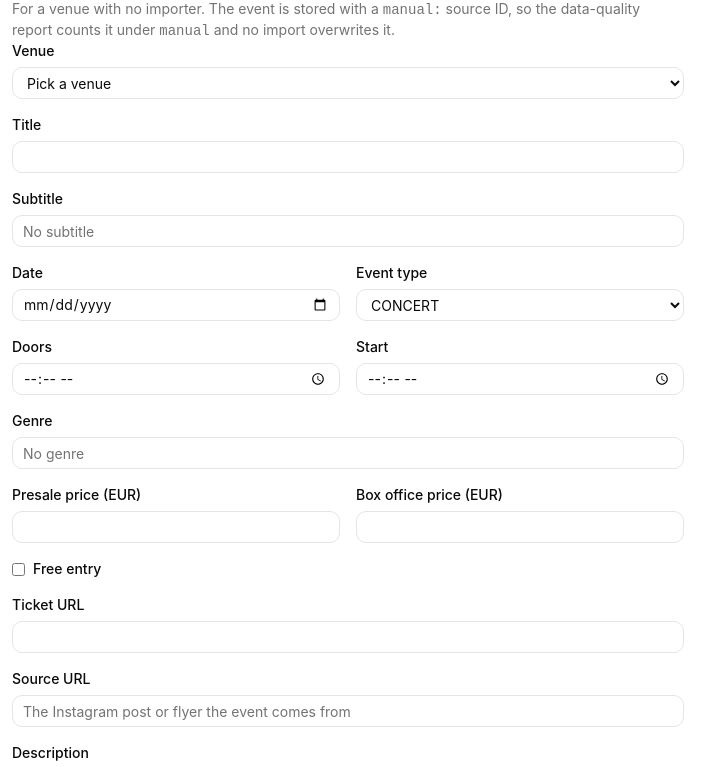
Test case: NewEventView › the check for events at the venue on the date › lists the events on the date and saves only after "Save anyway"
The width and height of the screenshot is (701, 767).
Select "Kulturhaus X" in the dropdown labelled "Venue" at {"x": 348, "y": 83}, box [12,67,684,99]
Type "Open Decks" into the field labelled "Title" at {"x": 348, "y": 157}, box [12,141,684,173]
Type "2026-11-14" into the date field labelled "Date" at {"x": 176, "y": 305}, box [12,289,340,321]
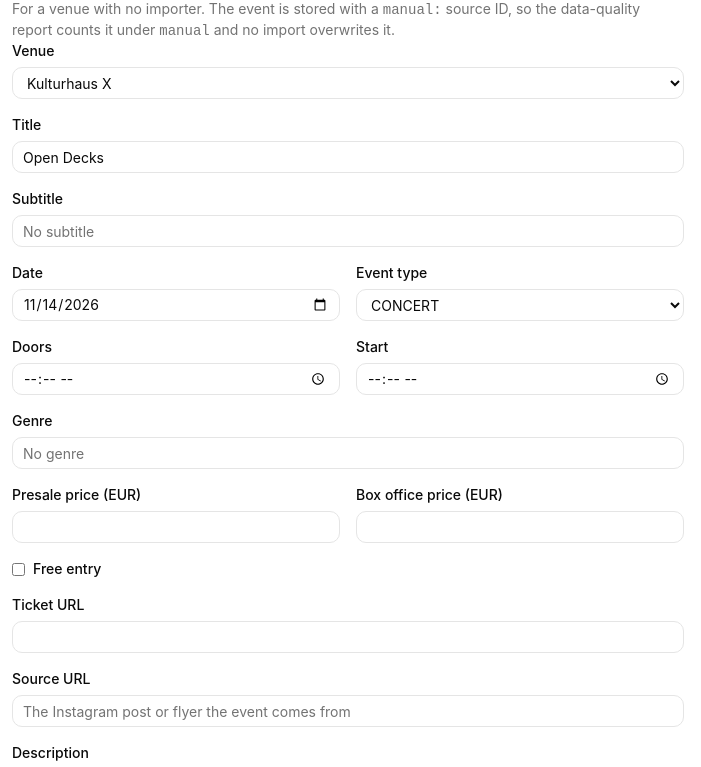
Type "21:00" into the time field labelled "Start" at {"x": 520, "y": 379}, box [356,363,684,395]
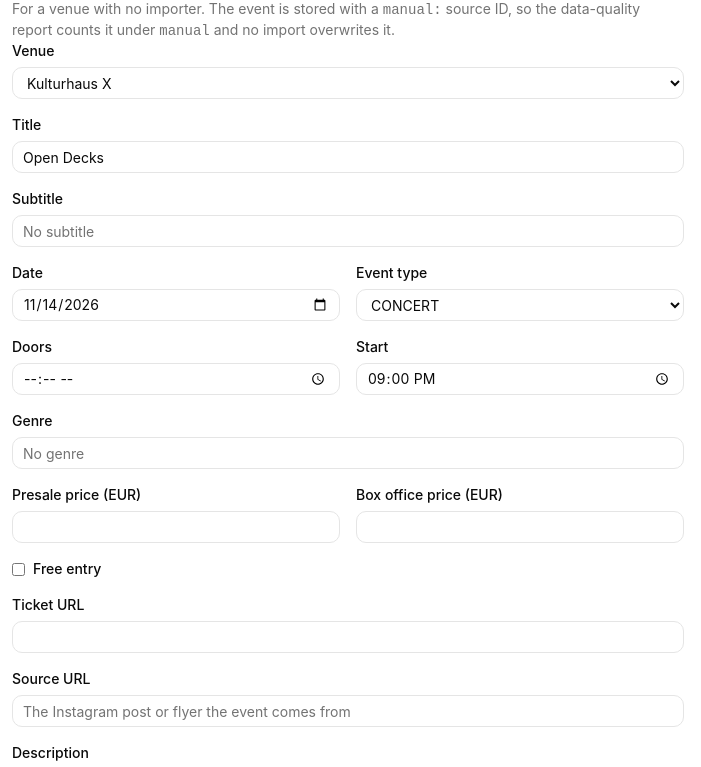
Type "House" into the field labelled "Genre" at {"x": 348, "y": 453}, box [12,437,684,469]
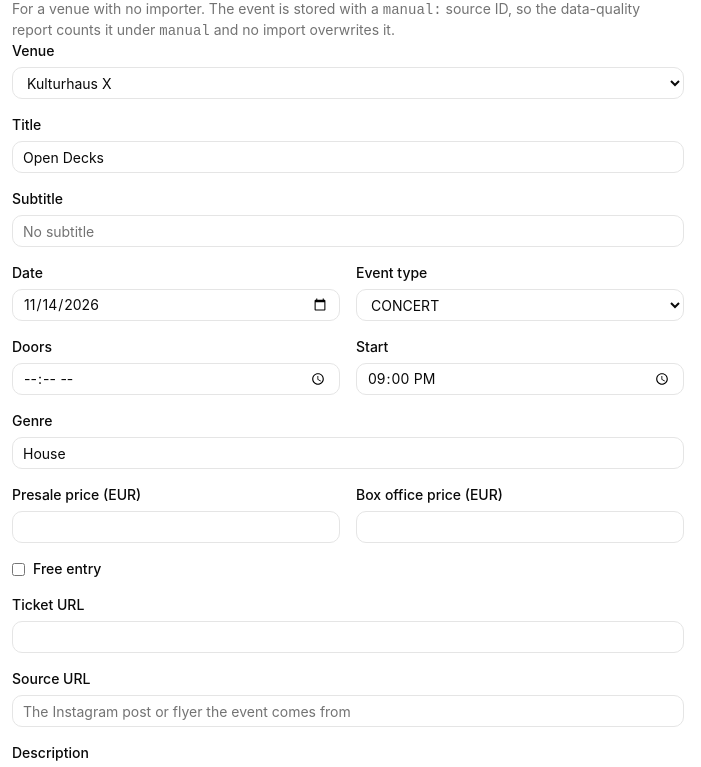
Type "5" into the field labelled "Presale price (EUR)" at {"x": 176, "y": 527}, box [12,511,340,543]
(page scrolled)
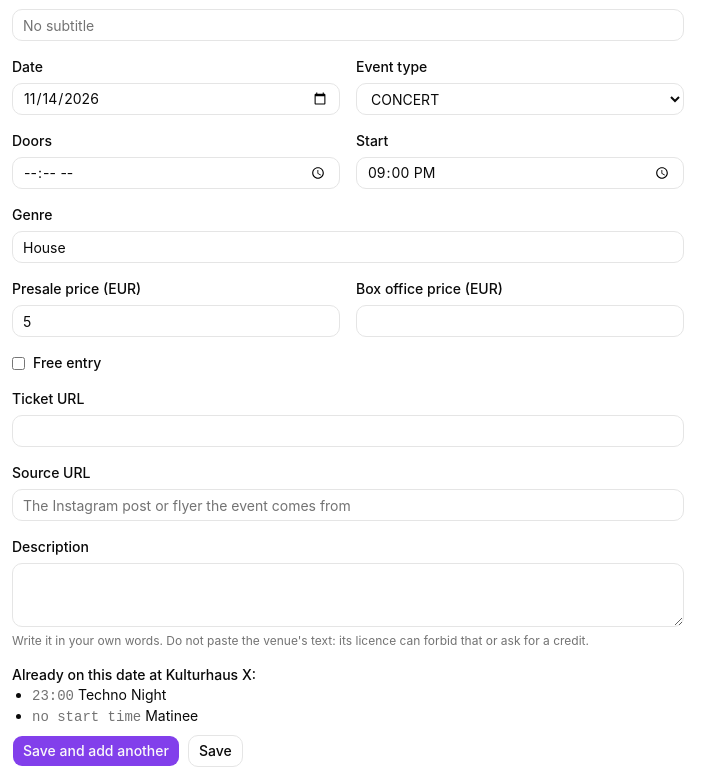
Result: the element with test id "same-day" shows "Already on this date at Kulturhaus X:" at [12,666,256,683]
Result: the element with test id "same-day" shows "23:00" at [32,688,74,704]
Result: the element with test id "same-day" shows "Techno Night" at [74,686,166,703]
Click the button "Save" at {"x": 215, "y": 751}, box [188,735,243,766]
(page scrolled)
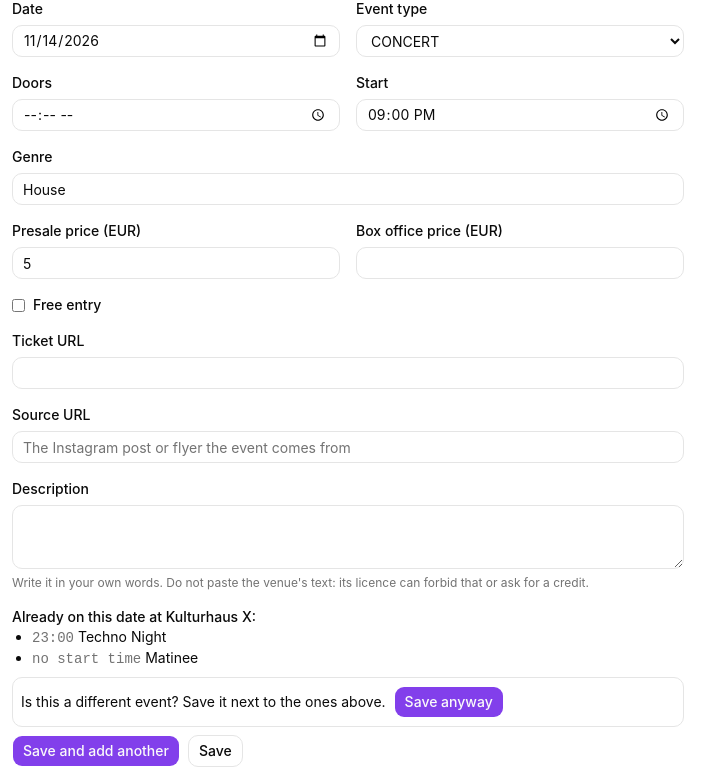
Click the button named "saveAnyway" at {"x": 449, "y": 702}, box [394,686,504,718]
(page scrolled)
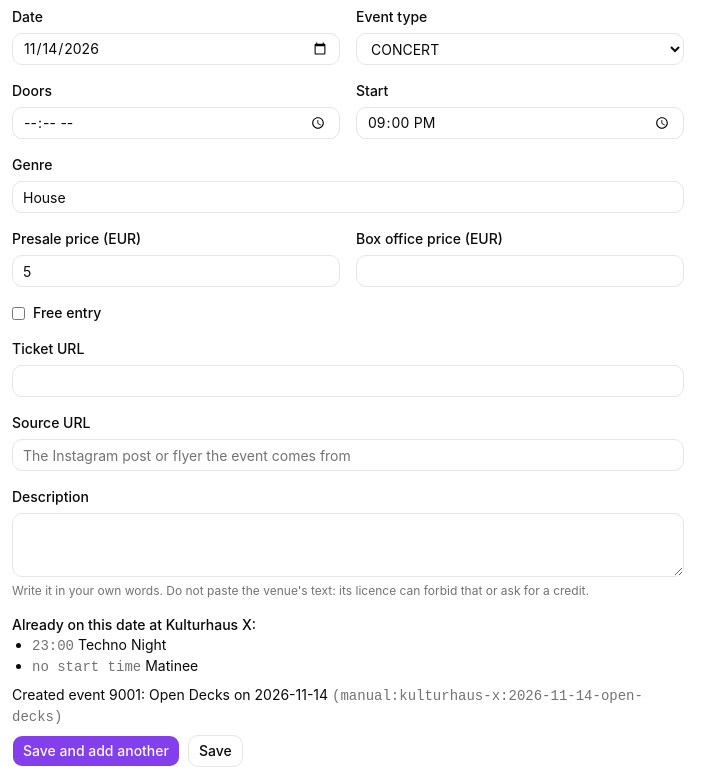
Result: the button named "saveAnyway" is gone
